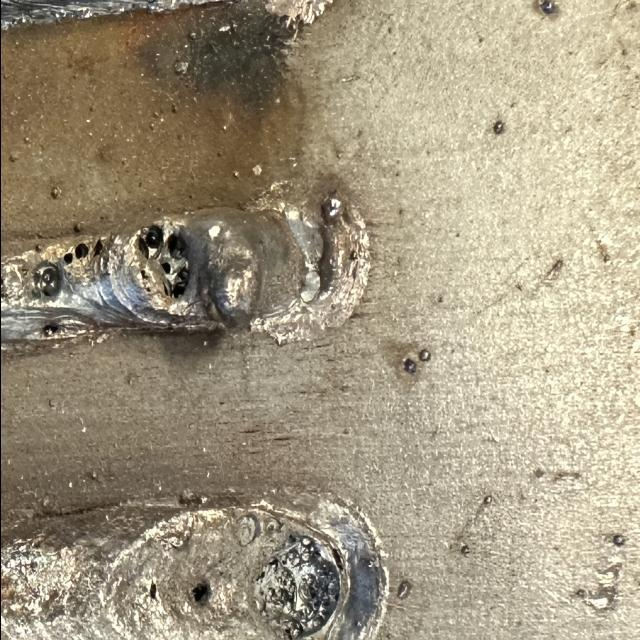Excess Reinforcement: (306, 192, 369, 338), (206, 220, 258, 327), (250, 300, 314, 345), (138, 0, 192, 12)
Porosity: (256, 537, 339, 638), (136, 223, 188, 302), (138, 225, 188, 298), (31, 262, 61, 298), (138, 225, 162, 258), (191, 582, 211, 605), (166, 235, 185, 258), (145, 225, 162, 248), (331, 549, 343, 573), (74, 243, 88, 258), (171, 283, 185, 298), (42, 325, 56, 337), (92, 241, 101, 257), (160, 262, 170, 275), (62, 253, 72, 265), (149, 583, 155, 600)
Spatters: (544, 258, 564, 282), (321, 197, 340, 217), (396, 580, 411, 600), (538, 0, 558, 15), (402, 358, 416, 375), (611, 533, 625, 548), (491, 122, 505, 135), (174, 62, 188, 75), (50, 185, 60, 200), (418, 350, 430, 362), (459, 545, 470, 557), (251, 165, 261, 177), (198, 495, 208, 505), (482, 496, 491, 507), (72, 222, 80, 233), (349, 251, 357, 261), (102, 516, 110, 522), (231, 172, 239, 178), (67, 482, 73, 489)
